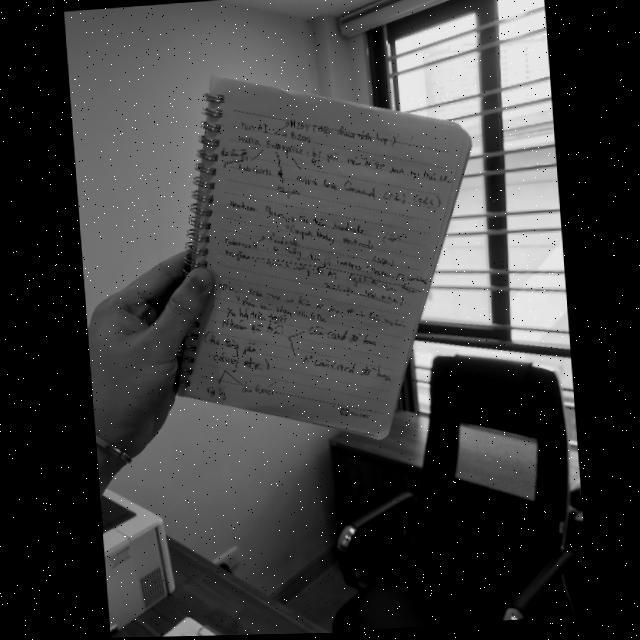document: (175, 74, 475, 437)
